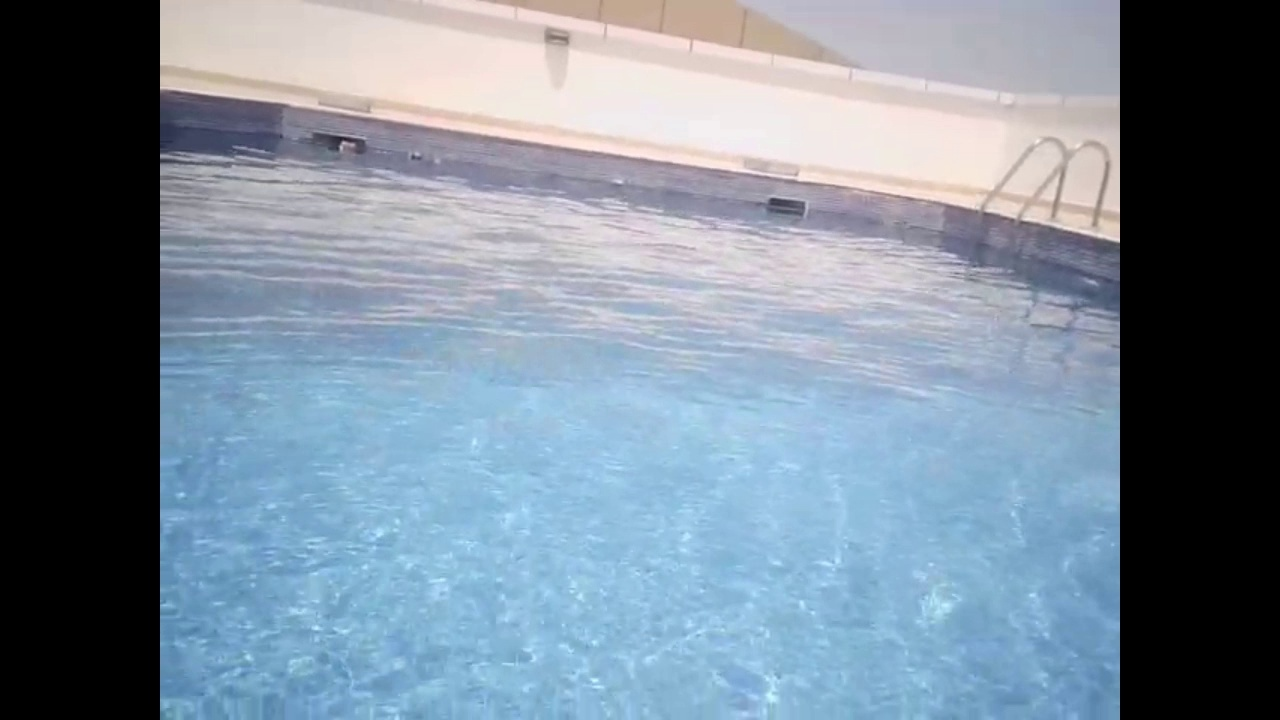debris: (334, 135, 362, 156), (404, 147, 425, 165), (607, 173, 632, 187), (430, 155, 445, 169)
